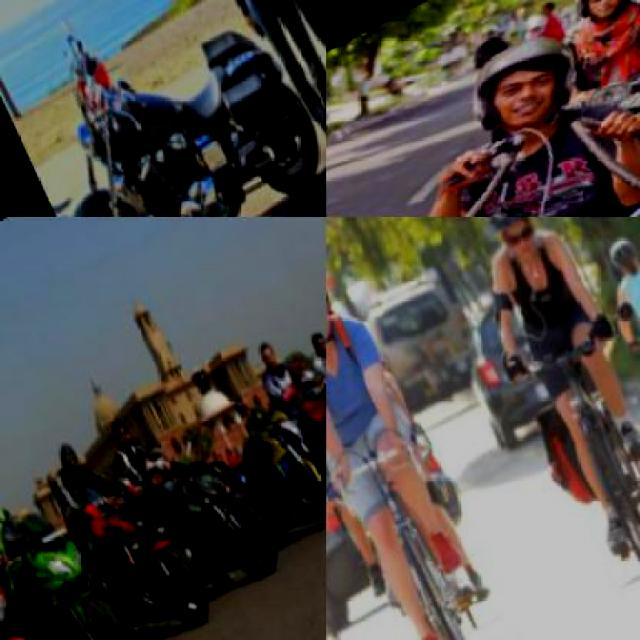With Helmet: (448, 13, 594, 161), (459, 217, 566, 292), (562, 0, 638, 45), (326, 246, 352, 368), (596, 237, 638, 294)
Without Helmet: (100, 413, 134, 461), (48, 438, 81, 480), (250, 342, 278, 383), (304, 332, 324, 368)
